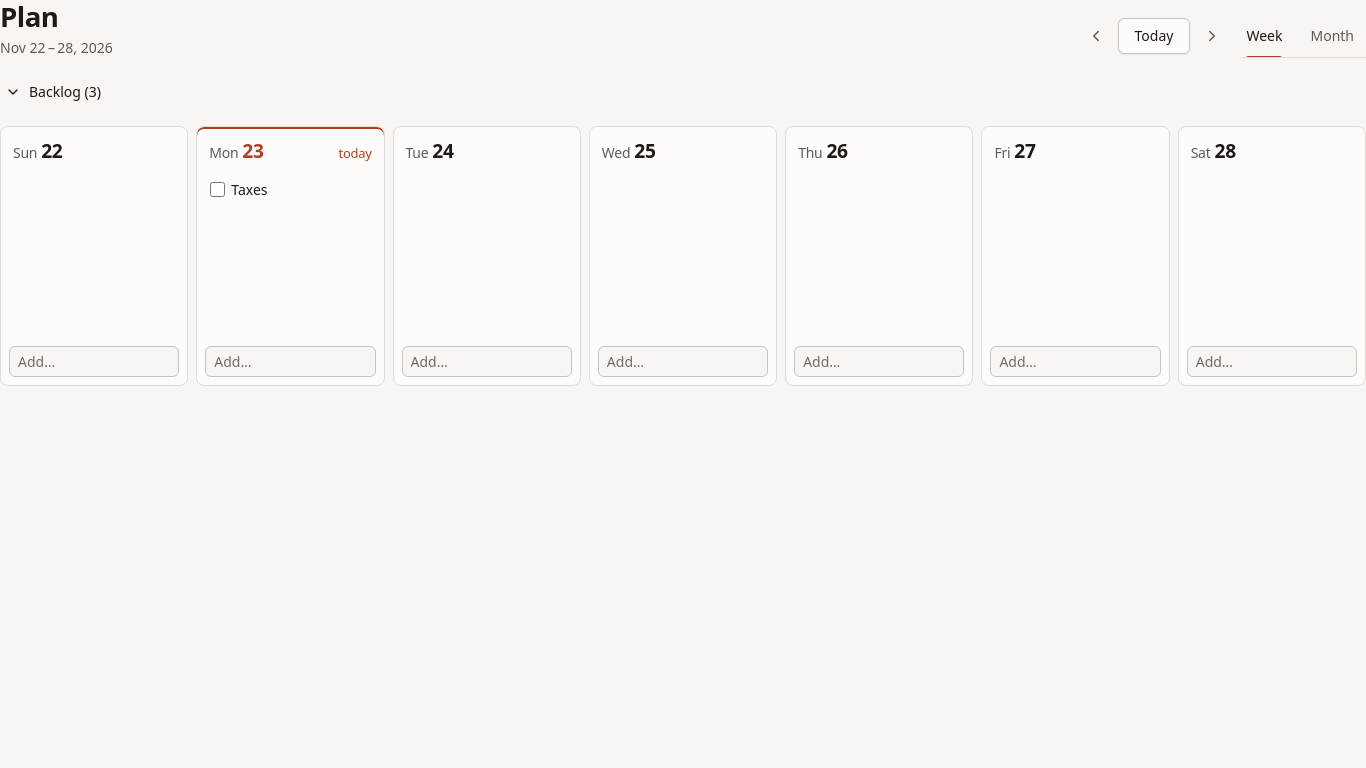
Scenario: PlannerPage week view › edits title, project and day
Click the button "Taxes" at (302, 190), box [229,175,376,204]
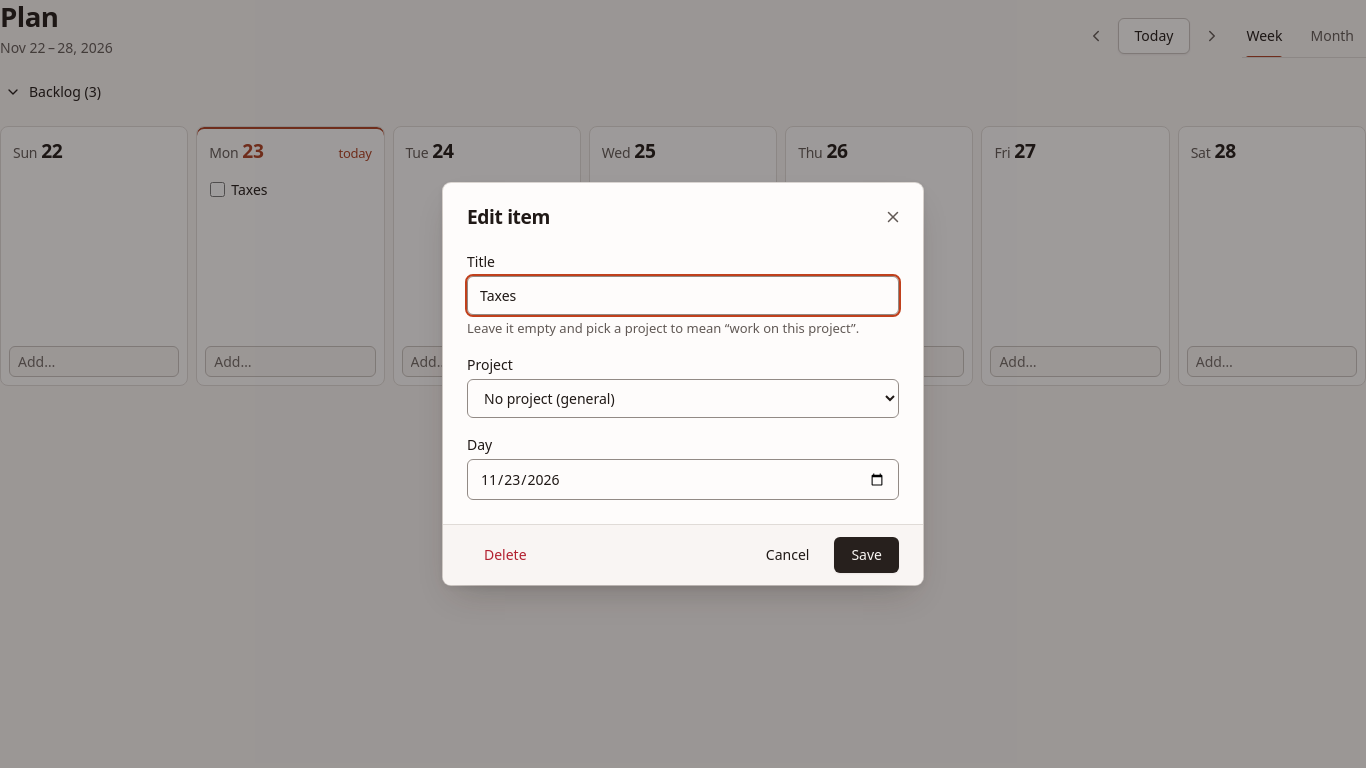
Clear the field labelled "Title" at (683, 295), box [467,276,899,315]
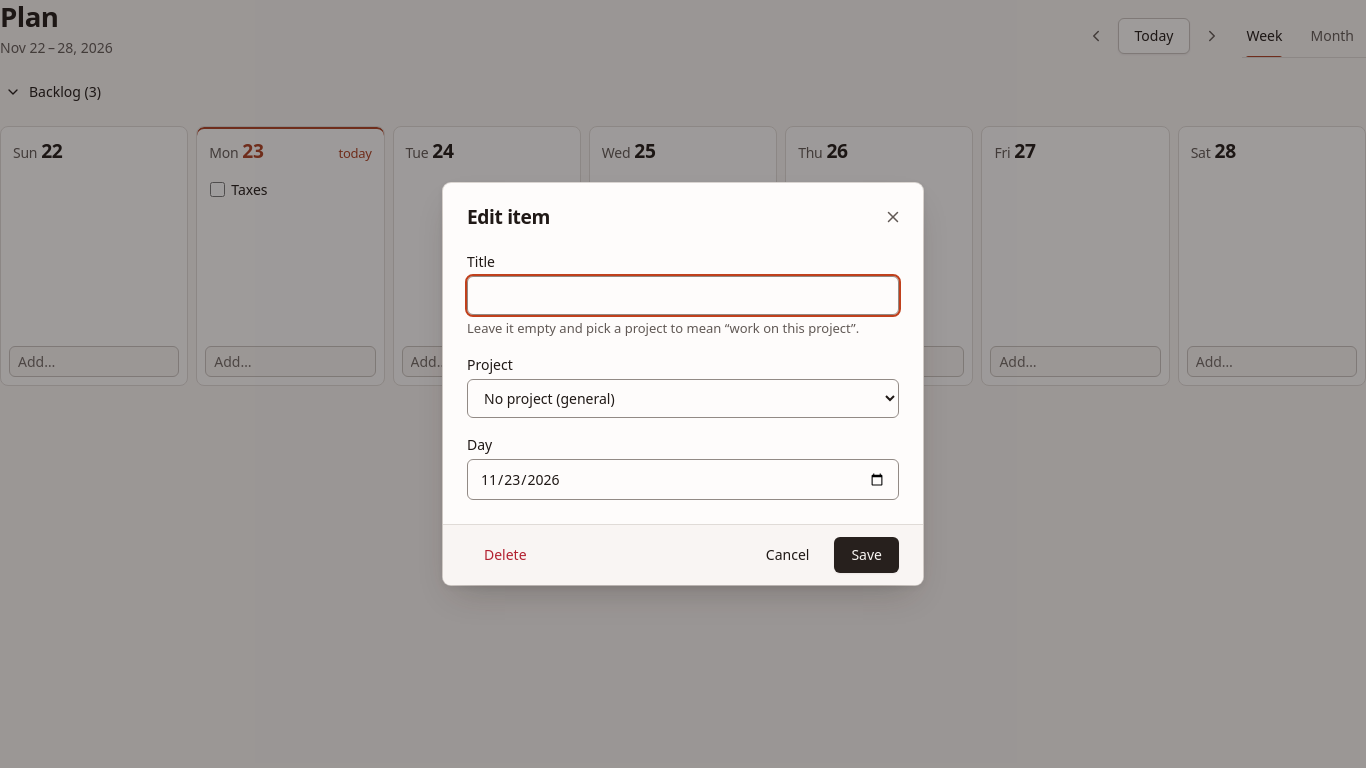
Select "Ledgerbird" in the dropdown labelled "Project" at (683, 399), box [467,379,899,418]
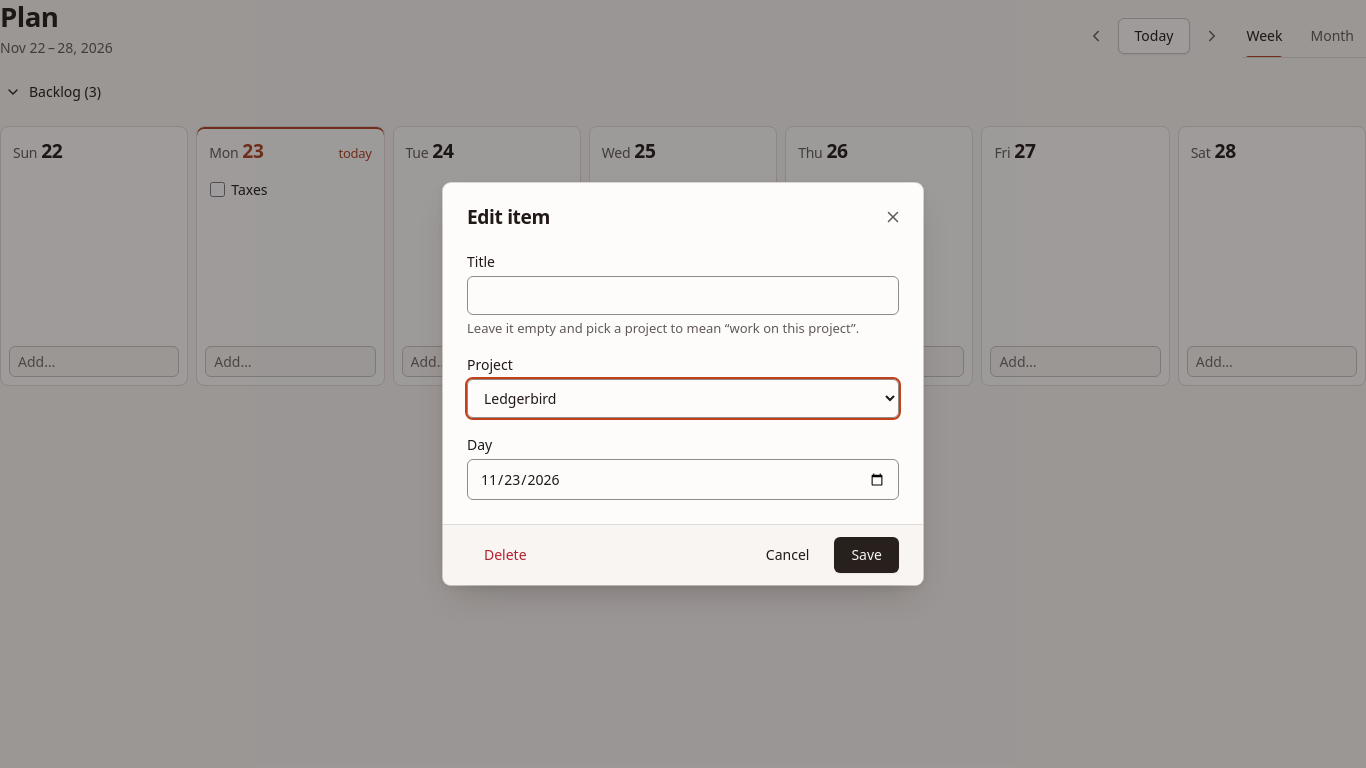
Click the button "Save" at (867, 555), box [834,537,899,573]
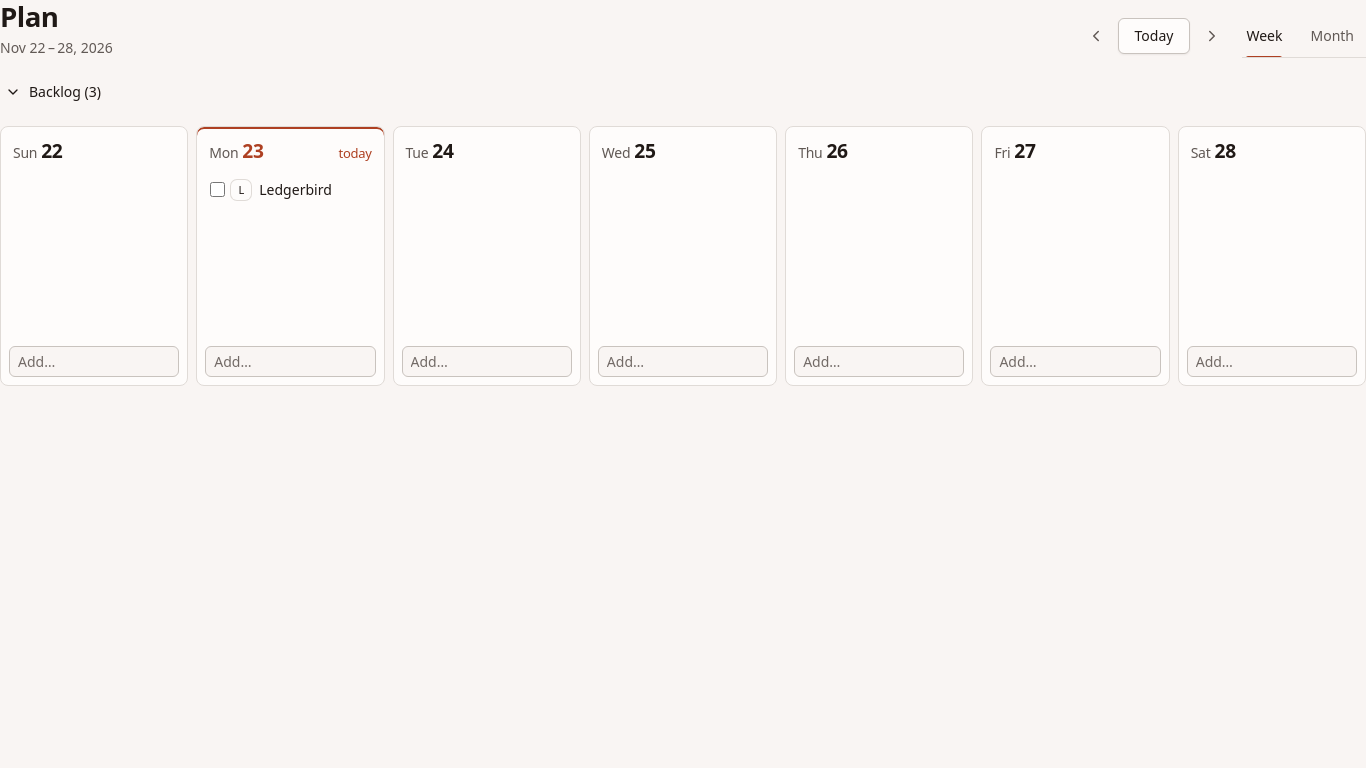
Now the checkbox named "Mark “Work on Ledgerbird” done" is shown, box [210,182,225,197]
